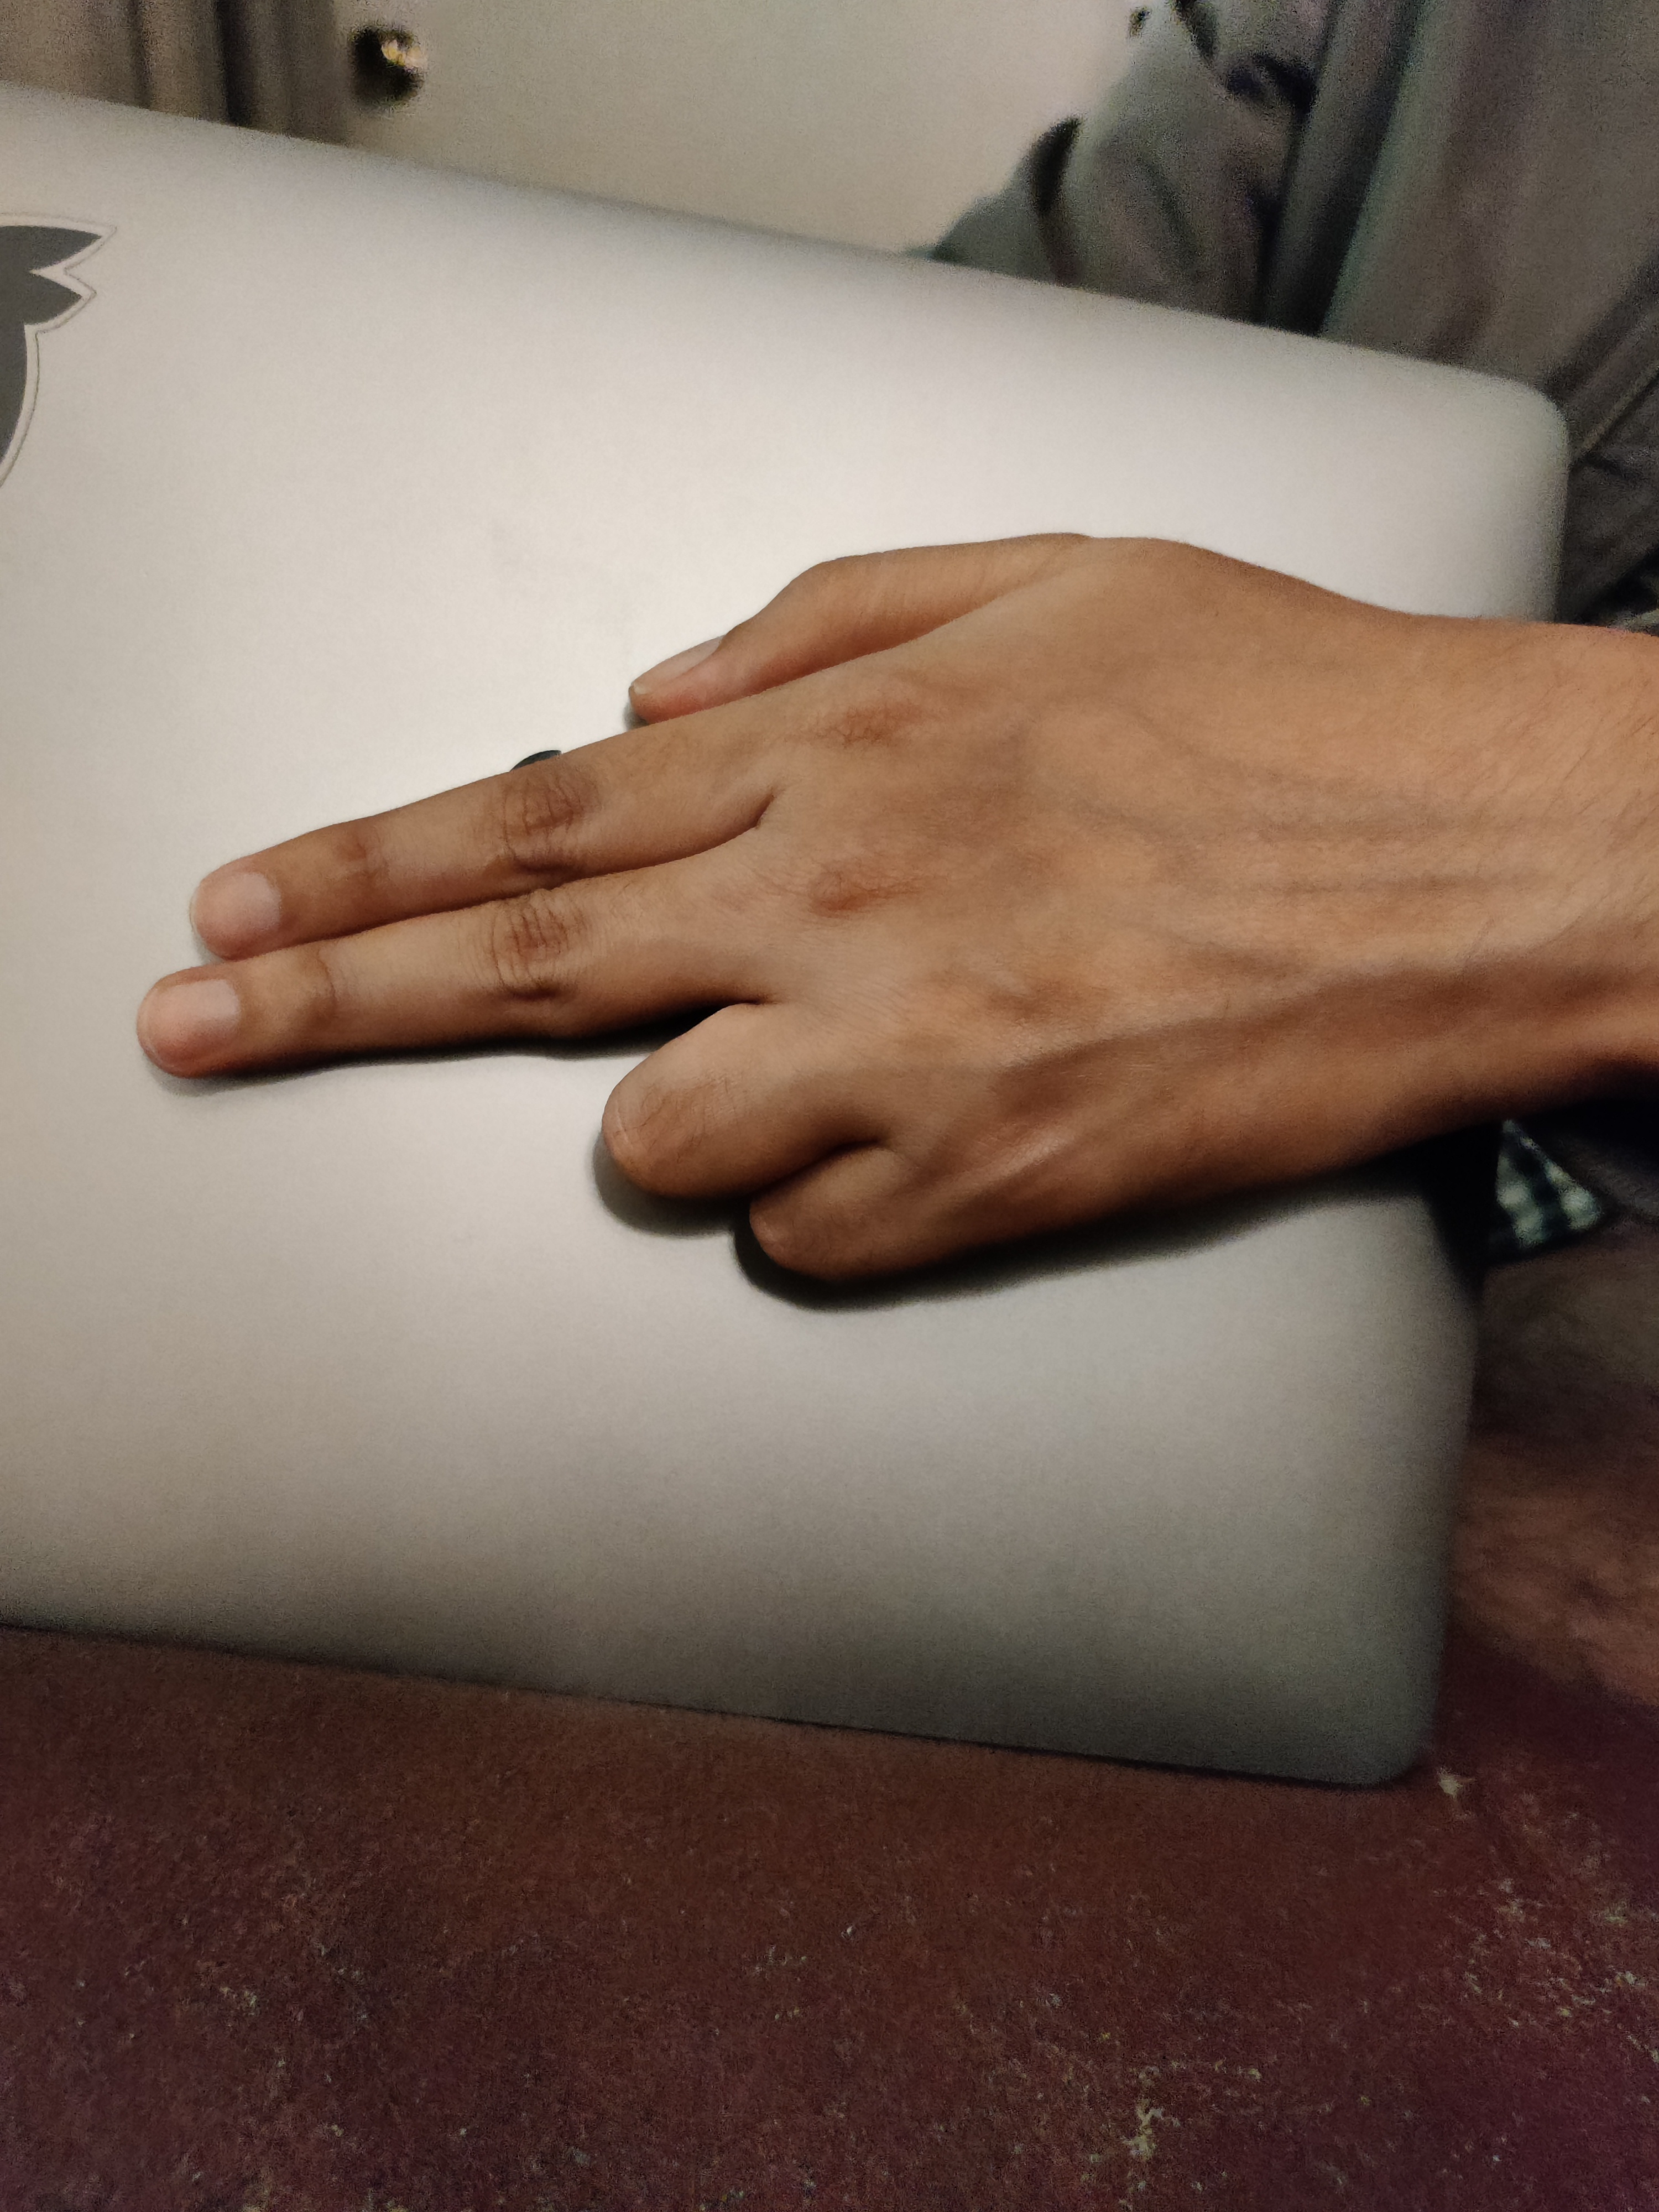right: (71, 388, 1633, 1508)
